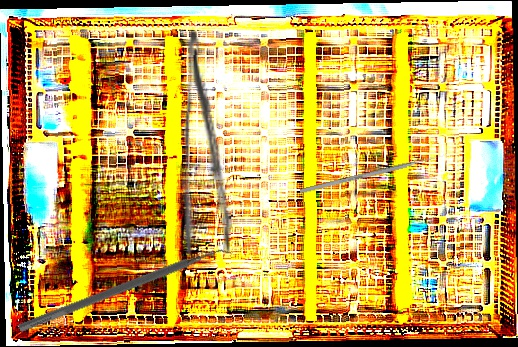Dressing Forceps: (181, 27, 235, 255)
Pusher: (299, 153, 446, 194)
Spatula Surgical: (17, 239, 235, 342)
